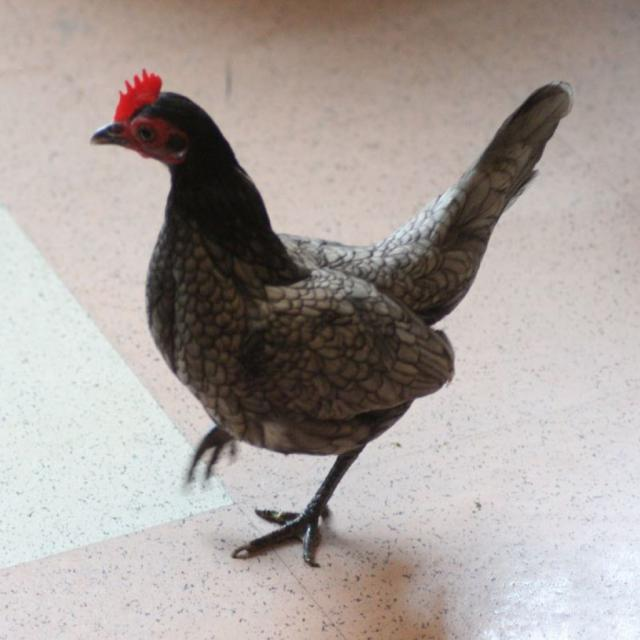Chicken: (97, 65, 571, 584)
